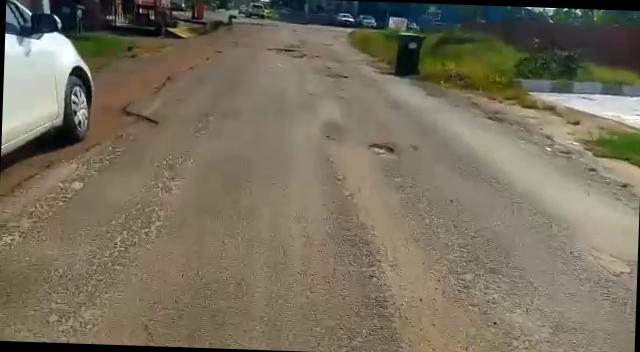pothole: (366, 142, 399, 158)
